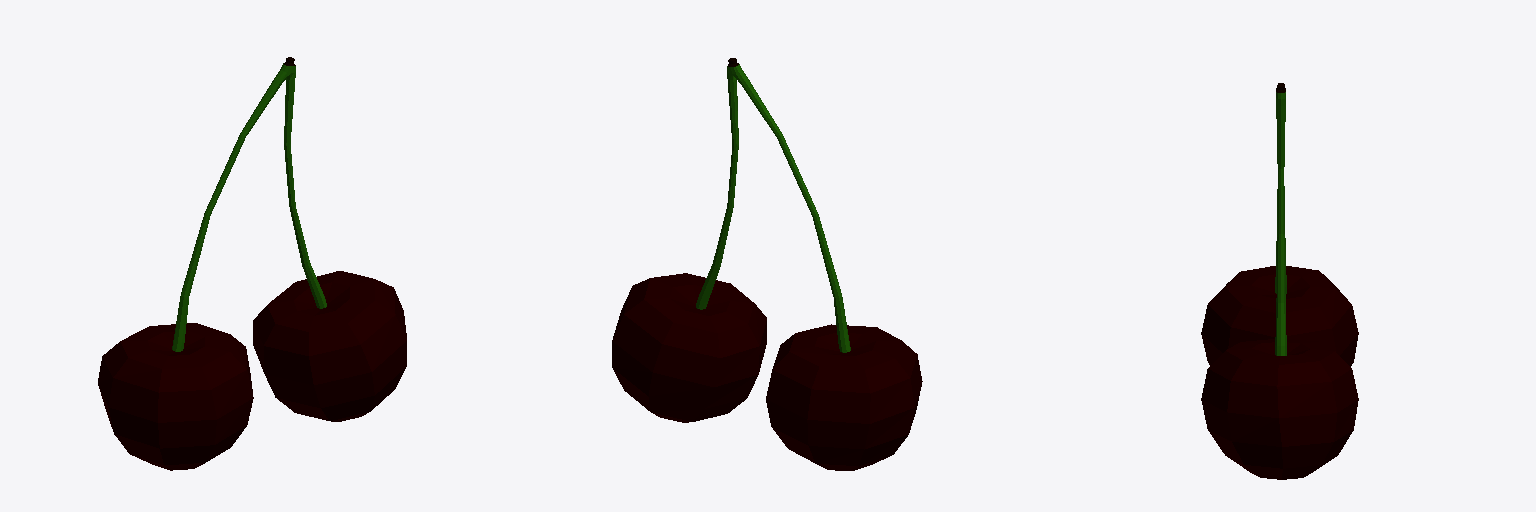
Rendered from cherry.obj.
3 renders of one model, left to right at view 1: azimuth 30°, elevation 25°; view 2: azimuth 150°, elevation 25°; view 3: azimuth 270°, elevation 25°, orthographic.
Bounding box in the file's own units: 4.18 × 5.13 × 1.94.